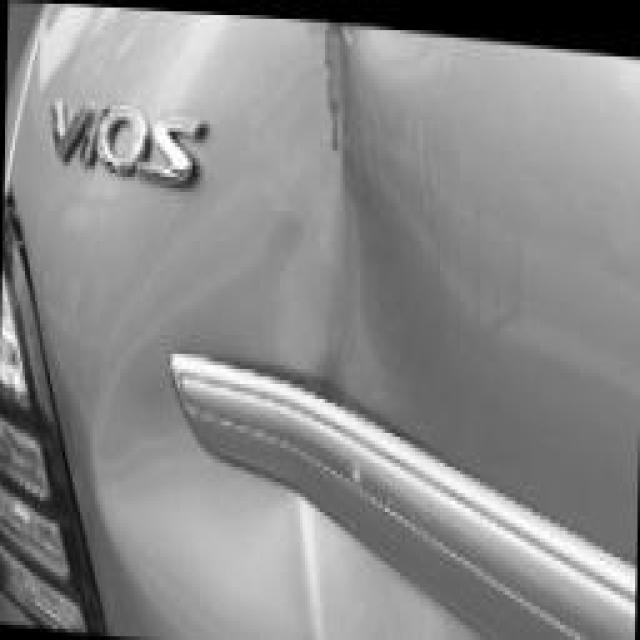Dickey: (80, 4, 422, 640)
